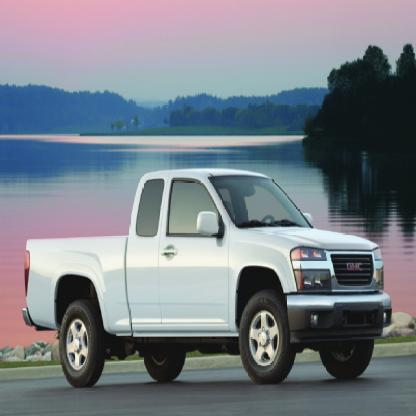Vehicle: (20, 164, 391, 388)
